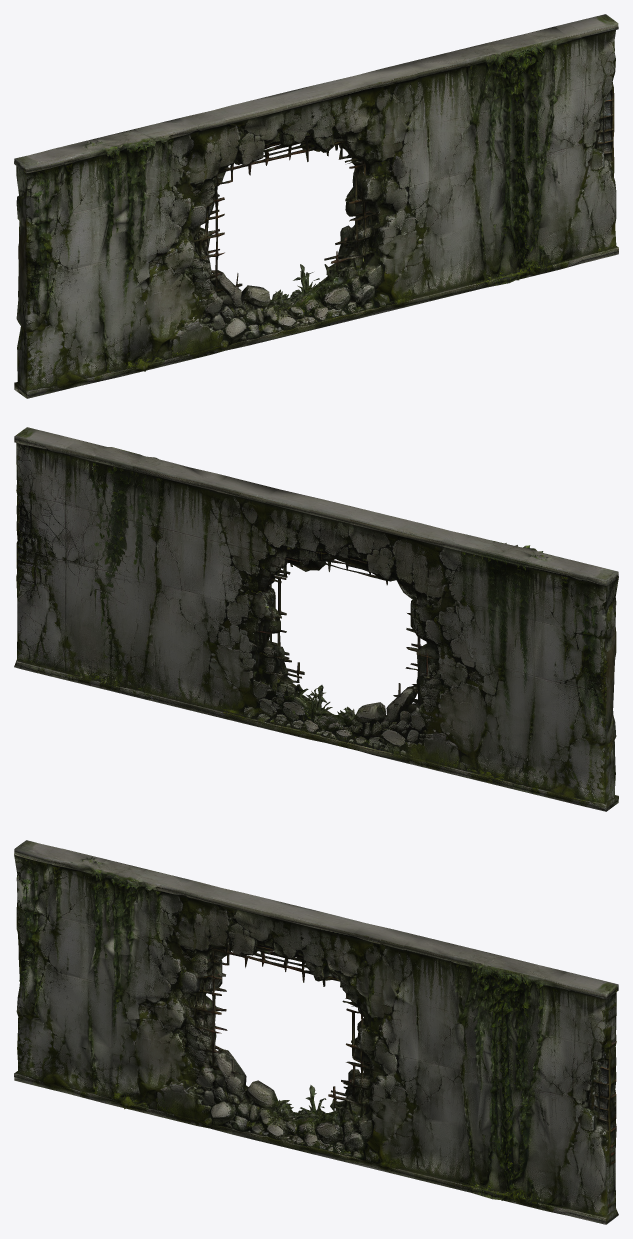
Rendered from wall_breach.glb.
The picture shows the model from 3 angles, top to bottom: view 1: azimuth 30°, elevation 25°; view 2: azimuth 150°, elevation 25°; view 3: azimuth 330°, elevation 25°; orthographic projection.
Visible parts, largest first — view 1: wall_breach; view 2: wall_breach; view 3: wall_breach.
Boxes of the visible parts, x1,y1,x2,y2 form: wall_breach: (14, 14, 618, 398); wall_breach: (14, 427, 618, 811); wall_breach: (14, 840, 618, 1224).
Bounding box in the file's own units: 190 × 71.91 × 11.7.
Materials: 1 (1 with a texture image).
